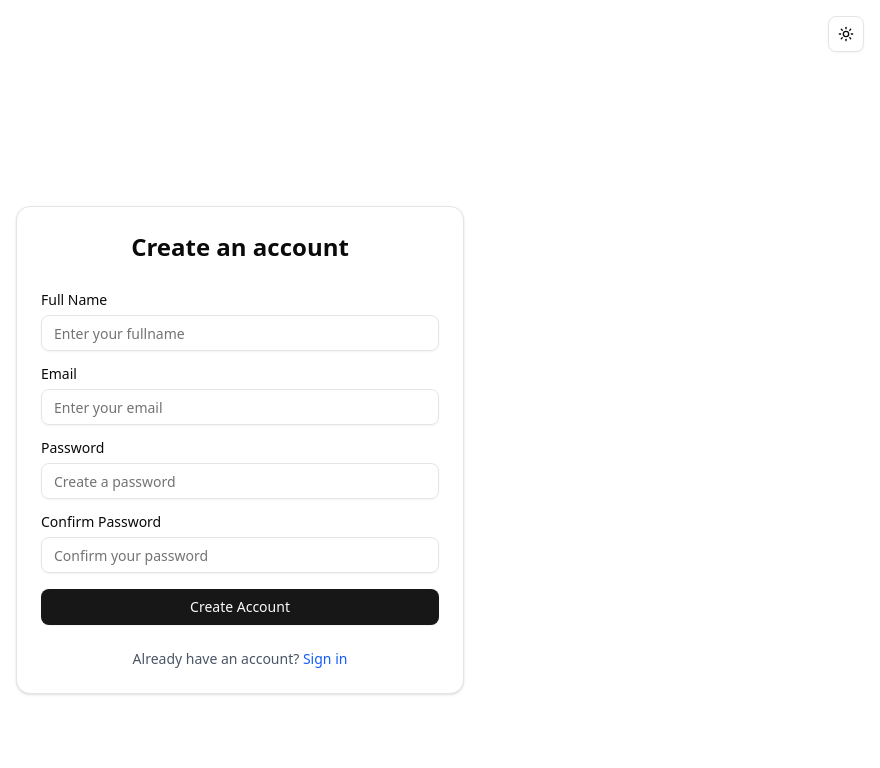
Test case: RegisterForm › shows errors when fields are empty
Click the button "Create Account" at (240, 607), box [41,589,439,625]
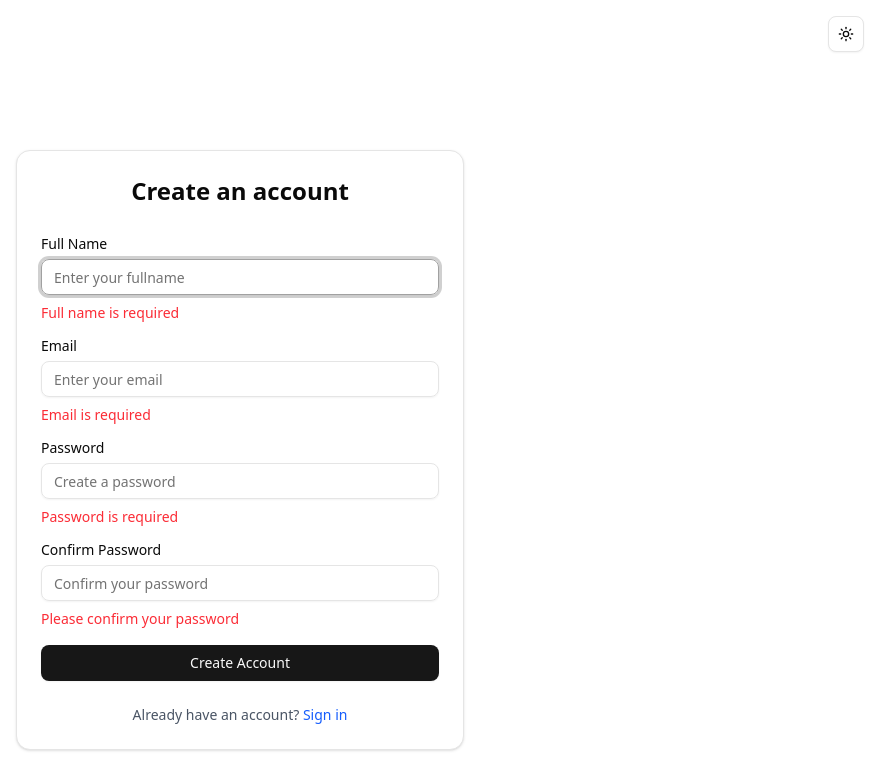
Expected: the text "Full name is required" is shown, [41,303,179,322]
Expected: the text "Email is required" is shown, [41,405,151,424]
Expected: the text "Password is required" is shown, [41,507,178,526]
